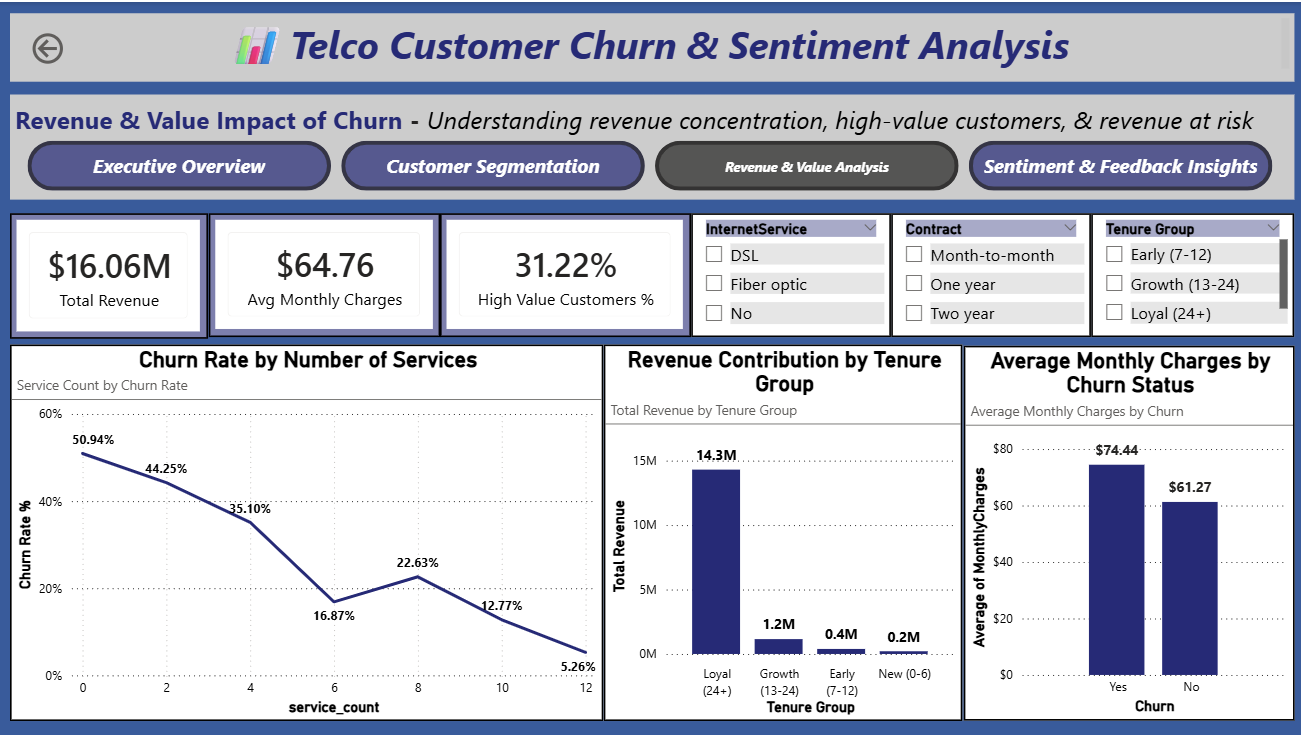

The page's visual inventory and layout, read from the dashboard file:
{"tool":"powerbi","page":{"name":"Revenue & Value Analysis","canvas":[1280,720],"ordinal":2},"visuals":[{"type":"textbox","title":"Executive Overview -","box":[9.6,90.6,1261.1,102.9],"z":0},{"type":"textbox","box":[9.6,11,1261.1,67.2],"z":1000},{"type":"actionButton","box":[27.4,26.1,100.2,39.8],"z":2000},{"type":"pageNavigator","box":[27.4,135.8,1225.4,49.4],"z":3000},{"type":"cardVisual","title":"Total Customers","fields":{"Data":["Telco_Data_Cleaned.Total Revenue"]},"box":[9.7,207.7,194.7,123.3],"z":4000},{"type":"cardVisual","fields":{"Data":["Telco_Data_Cleaned.Avg Monthly Charges"]},"box":[204.5,207.7,227.2,121.7],"z":5000},{"type":"cardVisual","fields":{"Data":["Telco_Data_Cleaned.High Value Customers %"]},"box":[431.6,207.7,246.7,121.7],"z":6000},{"type":"clusteredColumnChart","title":"Average Monthly Charges by Churn Status","fields":{"Category":["Telco_Data_Cleaned.Churn"],"Y":["Avg(Telco_Data_Cleaned.MonthlyCharges)"]},"box":[946,337.5,324.5,368.4],"z":7000},{"type":"clusteredColumnChart","title":"Revenue Contribution by Tenure Group","fields":{"Y":["Telco_Data_Cleaned.Total Revenue"],"Category":["Telco_Data_Cleaned.Tenure Group"]},"box":[592.3,335.9,352.1,370],"z":8000},{"type":"slicer","fields":{"Values":["Telco_Data_Cleaned.Contract"]},"box":[874.6,207.7,196.3,121.7],"z":9000},{"type":"slicer","fields":{"Values":["Telco_Data_Cleaned.InternetService"]},"box":[678.3,207.7,196.3,121.7],"z":10000},{"type":"slicer","fields":{"Values":["Telco_Data_Cleaned.Tenure Group"]},"box":[1071,207.7,199.6,121.7],"z":11000},{"type":"lineChart","title":"Churn Rate by Number of Services","fields":{"Category":["Telco_Data_Cleaned.service_count"],"Y":["Telco_Data_Cleaned.Churn Rate %"]},"box":[9.7,335.9,582.6,370],"z":13000}]}

Visuals, with their boxes in screenshot pixels (x1, y1, x2, y2), scaled from the page's 1280x720 canvas onto the 1301x735 screenshot:
"Executive Overview -" textbox: x1=10 y1=92 x2=1292 y2=198
textbox: x1=10 y1=11 x2=1292 y2=80
actionButton: x1=28 y1=27 x2=130 y2=67
pageNavigator: x1=28 y1=139 x2=1273 y2=189
"Total Customers" cardVisual: x1=10 y1=212 x2=208 y2=338
cardVisual - Telco_Data_Cleaned.Avg Monthly Charges: x1=208 y1=212 x2=439 y2=336
cardVisual - Telco_Data_Cleaned.High Value Customers %: x1=439 y1=212 x2=689 y2=336
"Average Monthly Charges by Churn Status" clusteredColumnChart: x1=962 y1=345 x2=1291 y2=721
"Revenue Contribution by Tenure Group" clusteredColumnChart: x1=602 y1=343 x2=960 y2=721
slicer - Telco_Data_Cleaned.Contract: x1=889 y1=212 x2=1088 y2=336
slicer - Telco_Data_Cleaned.InternetService: x1=689 y1=212 x2=889 y2=336
slicer - Telco_Data_Cleaned.Tenure Group: x1=1089 y1=212 x2=1291 y2=336
"Churn Rate by Number of Services" lineChart: x1=10 y1=343 x2=602 y2=721
